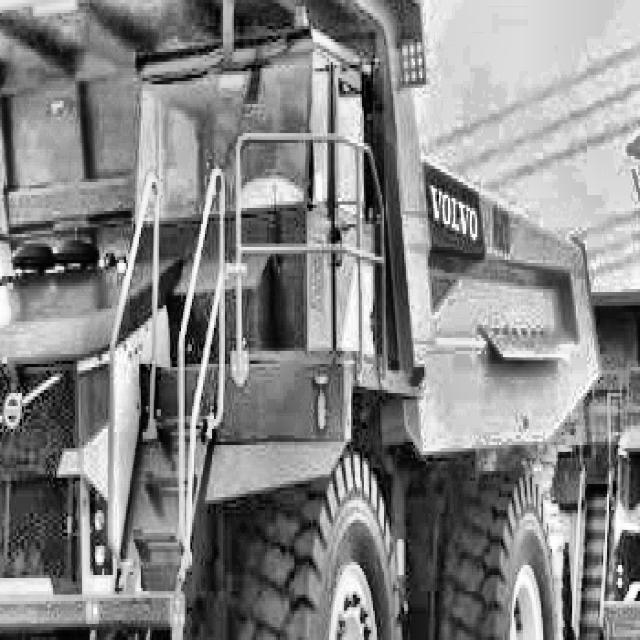dump_truck: (0, 0, 571, 640)
